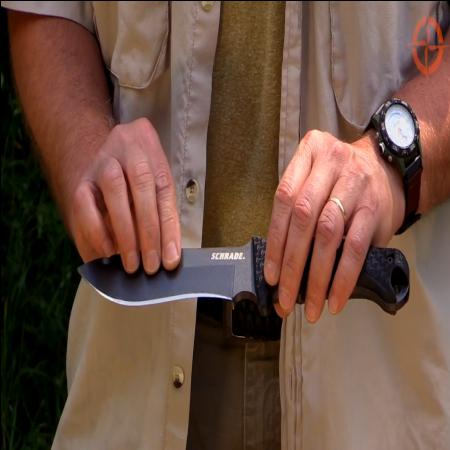long weapon: (66, 222, 412, 327)
